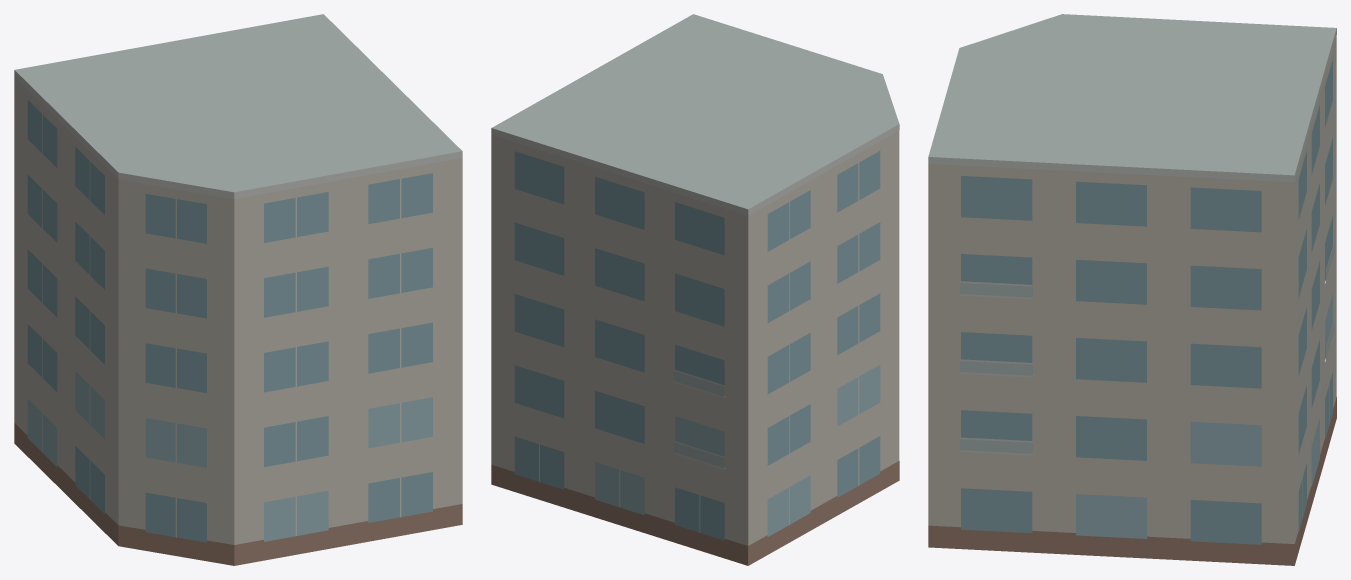
File: survey-upis-32872940.glb
3 views of the same model, side by side, from view 1: azimuth 30°, elevation 25°; view 2: azimuth 150°, elevation 25°; view 3: azimuth 270°, elevation 25° (orthographic). The views are drawn at different scales.
Parts seen in each view (by area): view 1: survey-upis-32872940.tmp; view 2: survey-upis-32872940.tmp; view 3: survey-upis-32872940.tmp.
Part boxes in pixels (<box>): survey-upis-32872940.tmp: <box>14,14,462,565</box>; survey-upis-32872940.tmp: <box>491,14,899,565</box>; survey-upis-32872940.tmp: <box>928,14,1336,565</box>.
Bounding box in the file's own units: 11.97 × 13.5 × 12.81.
